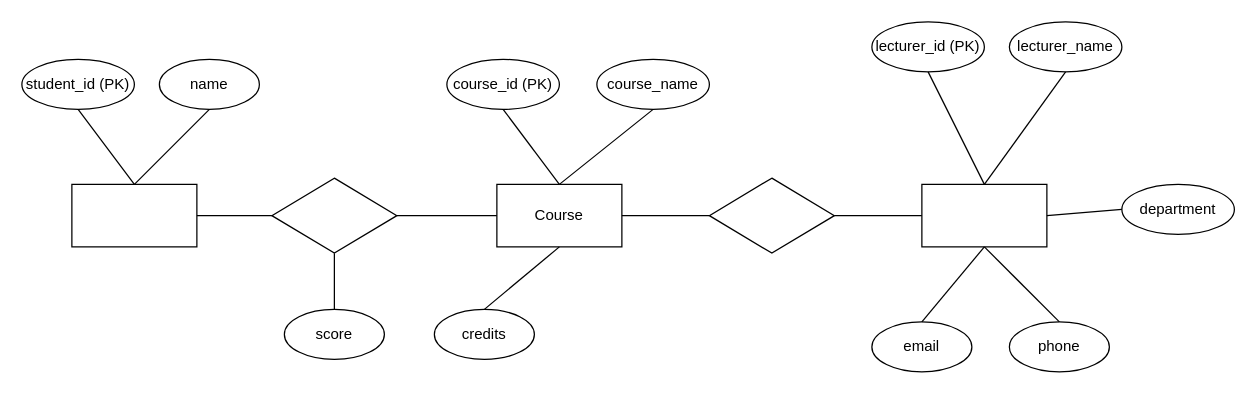
This 1256x394 diagram has some shape labels left out. Here are the shapes that lost their labels. From the top down, the centre of each, then its label:
the point at 134,215: Student
the point at 334,215: Enrollment
the point at 771,215: Teaches
the point at 984,215: Lecturer
